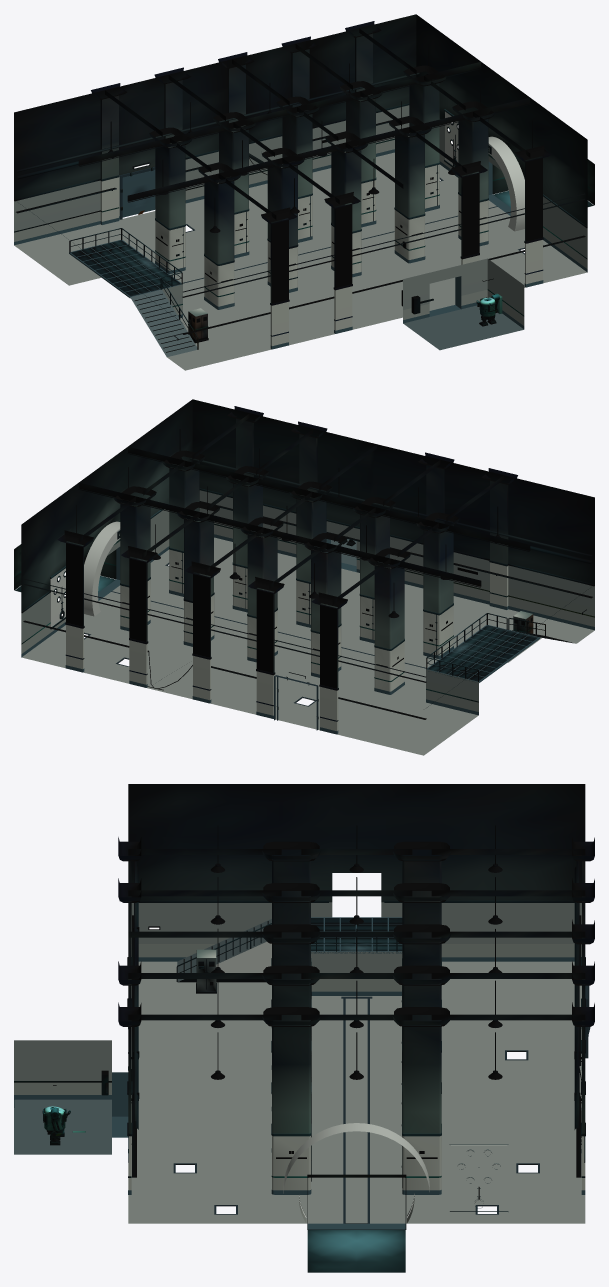
File: env_lift_hall.glb
The picture shows the model from 3 angles, top to bottom: view 1: azimuth 30°, elevation 25°; view 2: azimuth 150°, elevation 25°; view 3: azimuth 270°, elevation 25°; orthographic projection. The views are drawn at different scales.
Visible parts, largest first — view 1: chunk_lh_hall__m_pellam, chunk_lh_hall__m_mask; view 2: chunk_lh_hall__m_pellam, chunk_lh_hall__m_mask; view 3: chunk_lh_hall__m_pellam, chunk_lh_hall__m_mask.
Part boxes in pixels (box(x1,y1,x2,y2)): chunk_lh_hall__m_pellam: box(14, 14, 594, 370); chunk_lh_hall__m_mask: box(71, 140, 486, 322); chunk_lh_hall__m_pellam: box(14, 399, 594, 755); chunk_lh_hall__m_mask: box(122, 562, 536, 681); chunk_lh_hall__m_pellam: box(14, 784, 594, 1272); chunk_lh_hall__m_mask: box(198, 918, 437, 1158).
Size of the model in its own units: 45.04 by 12.04 by 35.6.
